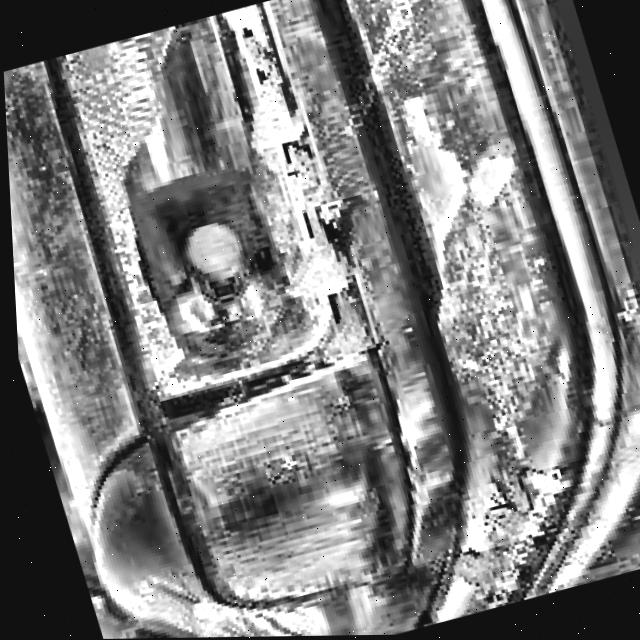head_lamp: (79, 3, 353, 385)
